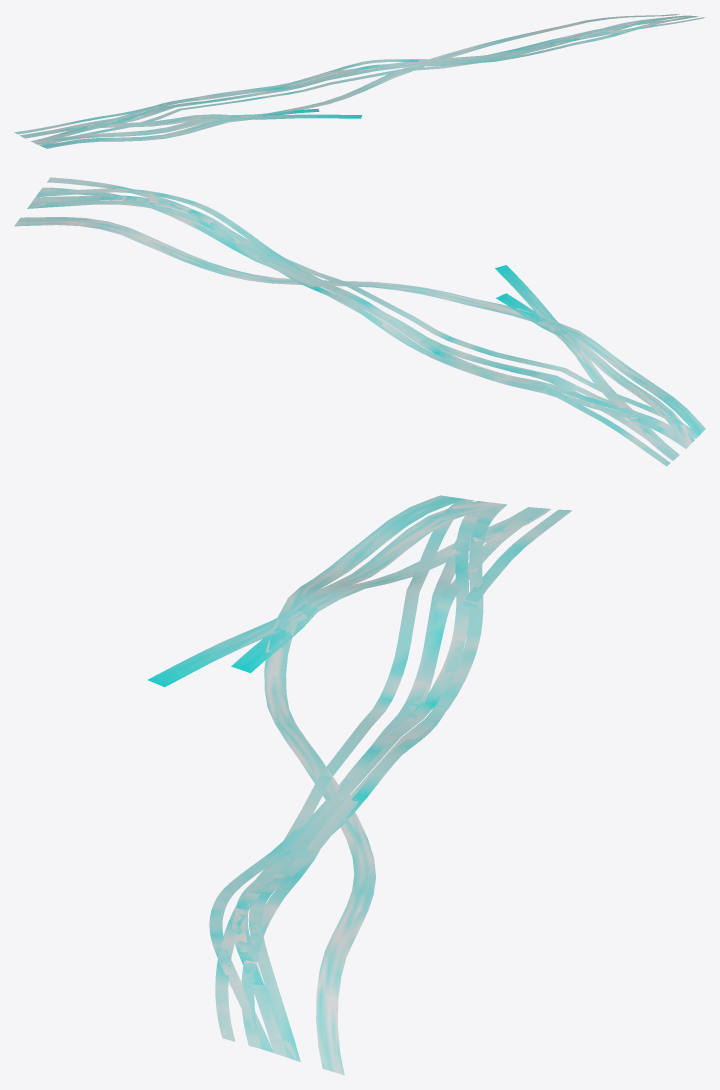
File: cell_175_111.fbx
3 views of the same model, one above another, from view 1: azimuth 30°, elevation 25°; view 2: azimuth 150°, elevation 25°; view 3: azimuth 270°, elevation 25° (orthographic). The views are drawn at different scales.
Parts seen in each view (by area): view 1: SpaceCenter_Long3_GenerateRoad_Sand_TireTracks_Narrow_Mesh_., SpaceCenter_Long3_GenerateRoad_Sand_TireTracks_Width_Mesh_x.; view 2: SpaceCenter_Long3_GenerateRoad_Sand_TireTracks_Narrow_Mesh_., SpaceCenter_Long3_GenerateRoad_Sand_TireTracks_Width_Mesh_x.; view 3: SpaceCenter_Long3_GenerateRoad_Sand_TireTracks_Narrow_Mesh_., SpaceCenter_Long3_GenerateRoad_Sand_TireTracks_Width_Mesh_x..
Part boxes in pixels (box(x1,y1,x2,y2)): SpaceCenter_Long3_GenerateRoad_Sand_TireTracks_Narrow_Mesh_.: box(14, 15, 705, 145); SpaceCenter_Long3_GenerateRoad_Sand_TireTracks_Width_Mesh_x.: box(20, 14, 679, 148); SpaceCenter_Long3_GenerateRoad_Sand_TireTracks_Narrow_Mesh_.: box(27, 177, 698, 466); SpaceCenter_Long3_GenerateRoad_Sand_TireTracks_Width_Mesh_x.: box(14, 217, 705, 460); SpaceCenter_Long3_GenerateRoad_Sand_TireTracks_Narrow_Mesh_.: box(209, 499, 572, 1062); SpaceCenter_Long3_GenerateRoad_Sand_TireTracks_Width_Mesh_x.: box(148, 495, 550, 1075).
Size of the model in its own units: 64 by 3.81 by 19.52.
